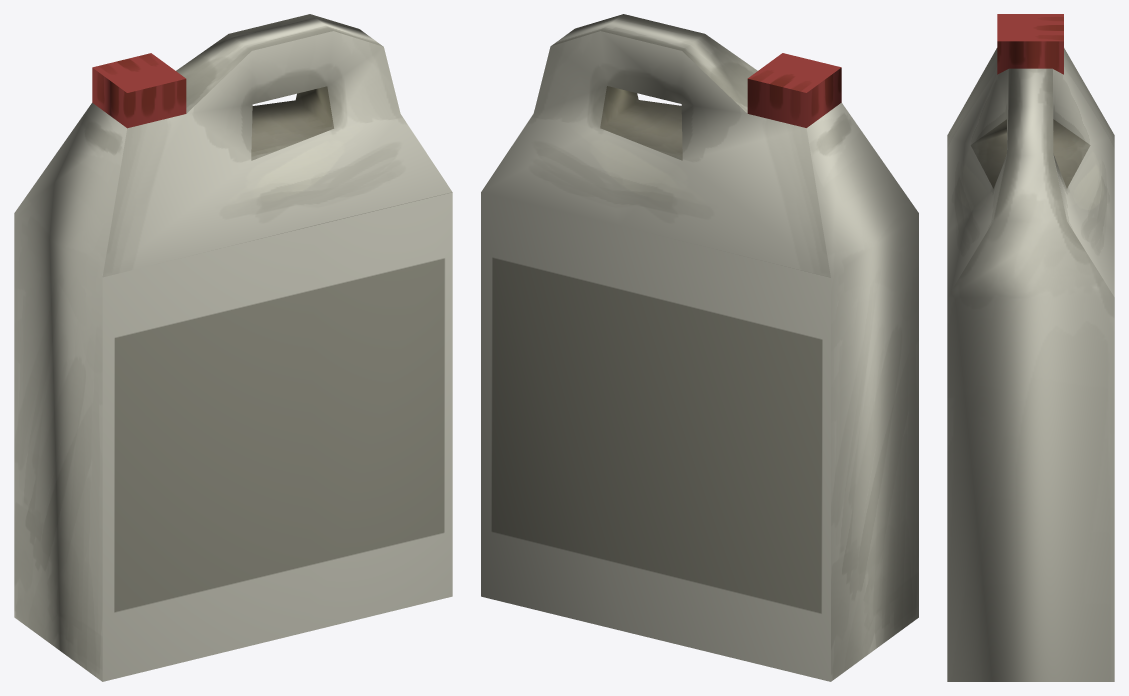
File: TrashJug.fbx
The picture shows the model from 3 angles, left to right: view 1: azimuth 30°, elevation 25°; view 2: azimuth 150°, elevation 25°; view 3: azimuth 270°, elevation 25°; orthographic projection. The views are drawn at different scales.
Visible parts, largest first — view 1: TrashJug; view 2: TrashJug; view 3: TrashJug.
Part boxes in pixels (x1,y1,x2,y2): TrashJug: (14, 14, 452, 681); TrashJug: (481, 14, 918, 681); TrashJug: (947, 14, 1114, 681).
Size of the model in its own units: 26.15 by 40.2 by 11.4.
